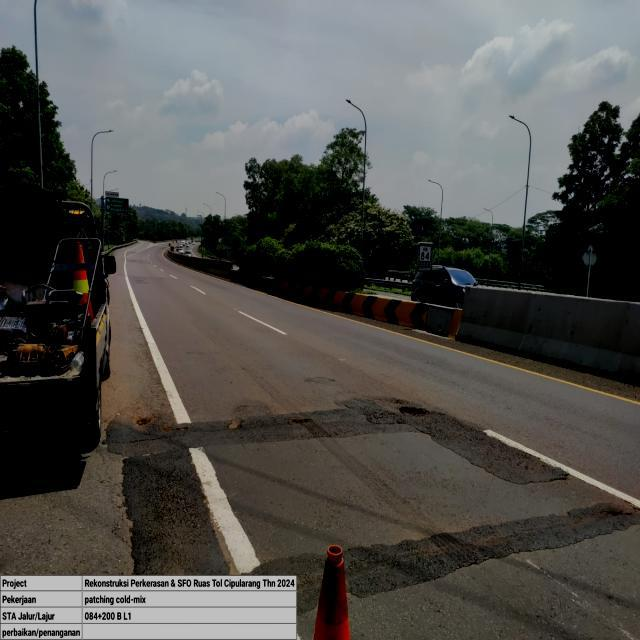Buraco: (128, 412, 162, 434), (595, 505, 636, 519), (396, 404, 434, 419), (224, 416, 247, 432), (286, 416, 316, 427), (388, 396, 410, 405)
